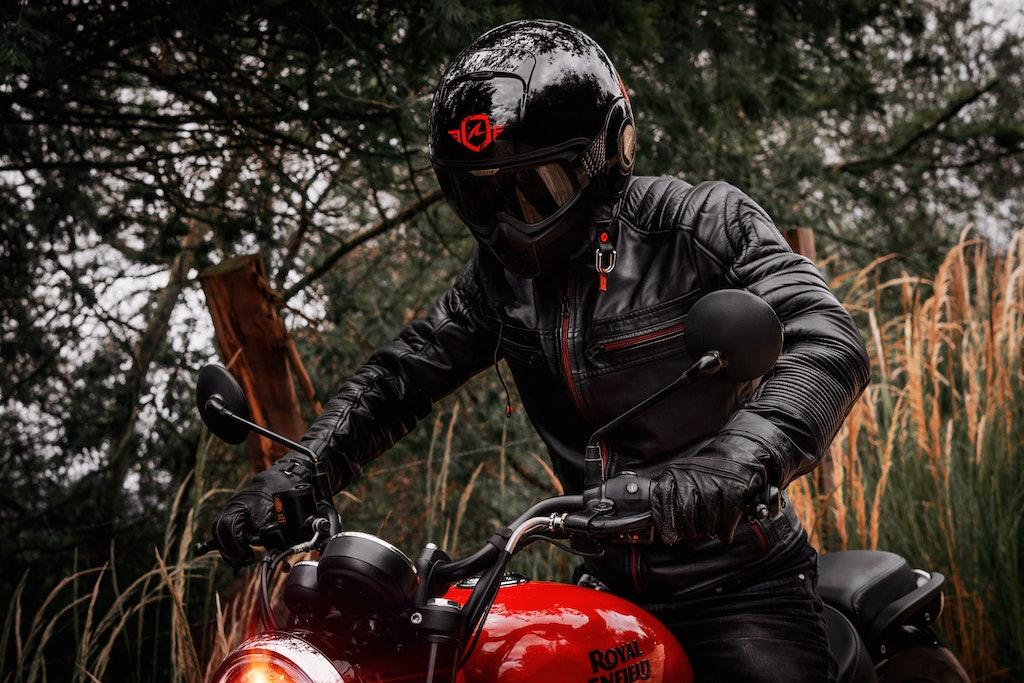helmet: (424, 16, 638, 294)
